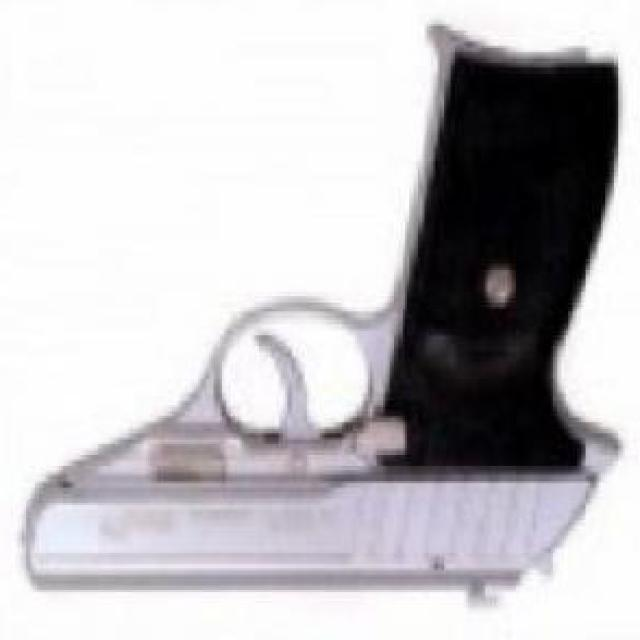pistol: (26, 10, 623, 603)
